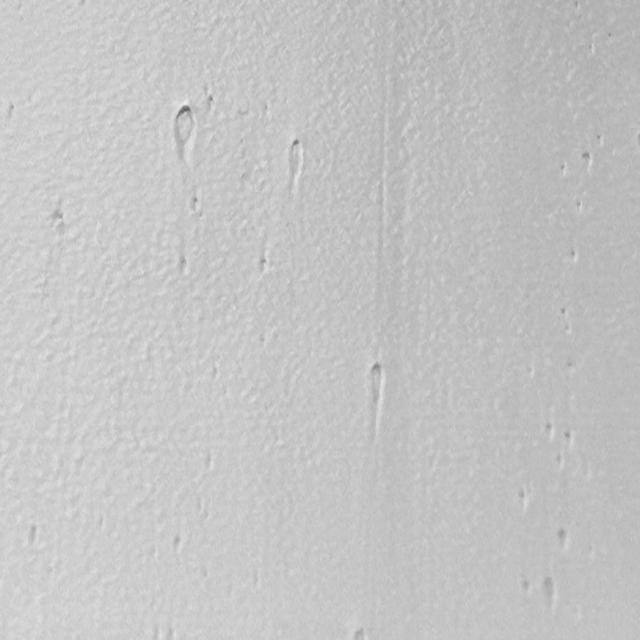pin holes: (170, 106, 200, 156), (284, 141, 305, 180), (366, 362, 386, 398), (540, 576, 558, 608), (25, 524, 46, 550), (552, 528, 570, 554), (578, 151, 597, 174), (514, 487, 532, 511), (564, 358, 582, 381), (540, 419, 556, 443), (258, 254, 272, 276), (190, 195, 204, 215), (568, 248, 582, 268), (564, 430, 578, 450), (179, 256, 192, 277), (170, 535, 184, 554), (553, 451, 566, 470), (520, 578, 533, 596), (7, 103, 19, 120), (574, 198, 586, 214), (558, 161, 570, 177)
